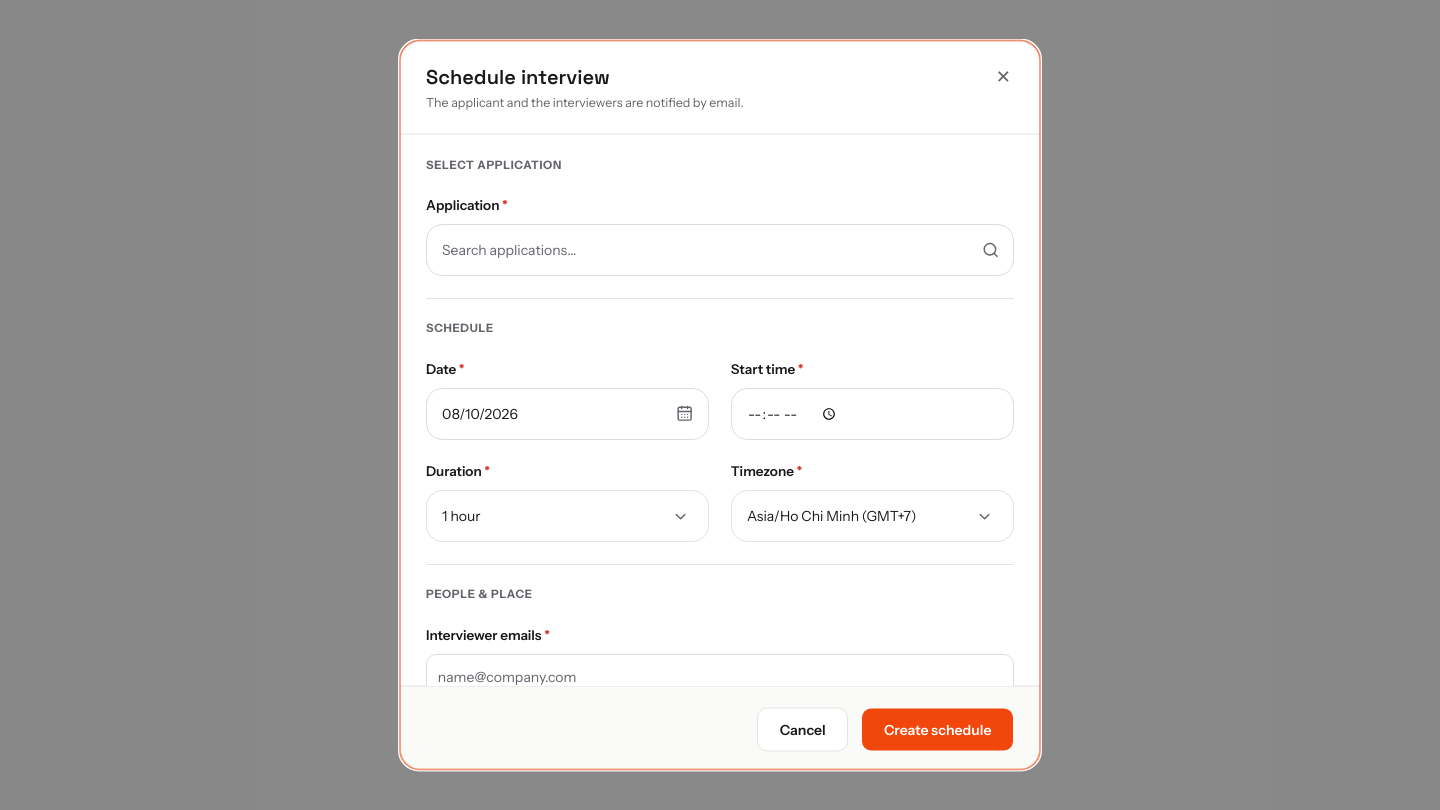
Test: Schedule interview dialog › refuses a time that has already passed today, in Vietnam time
Click the dropdown labelled "Application *" at coordinates (720, 250), box [426,224,1014,276]
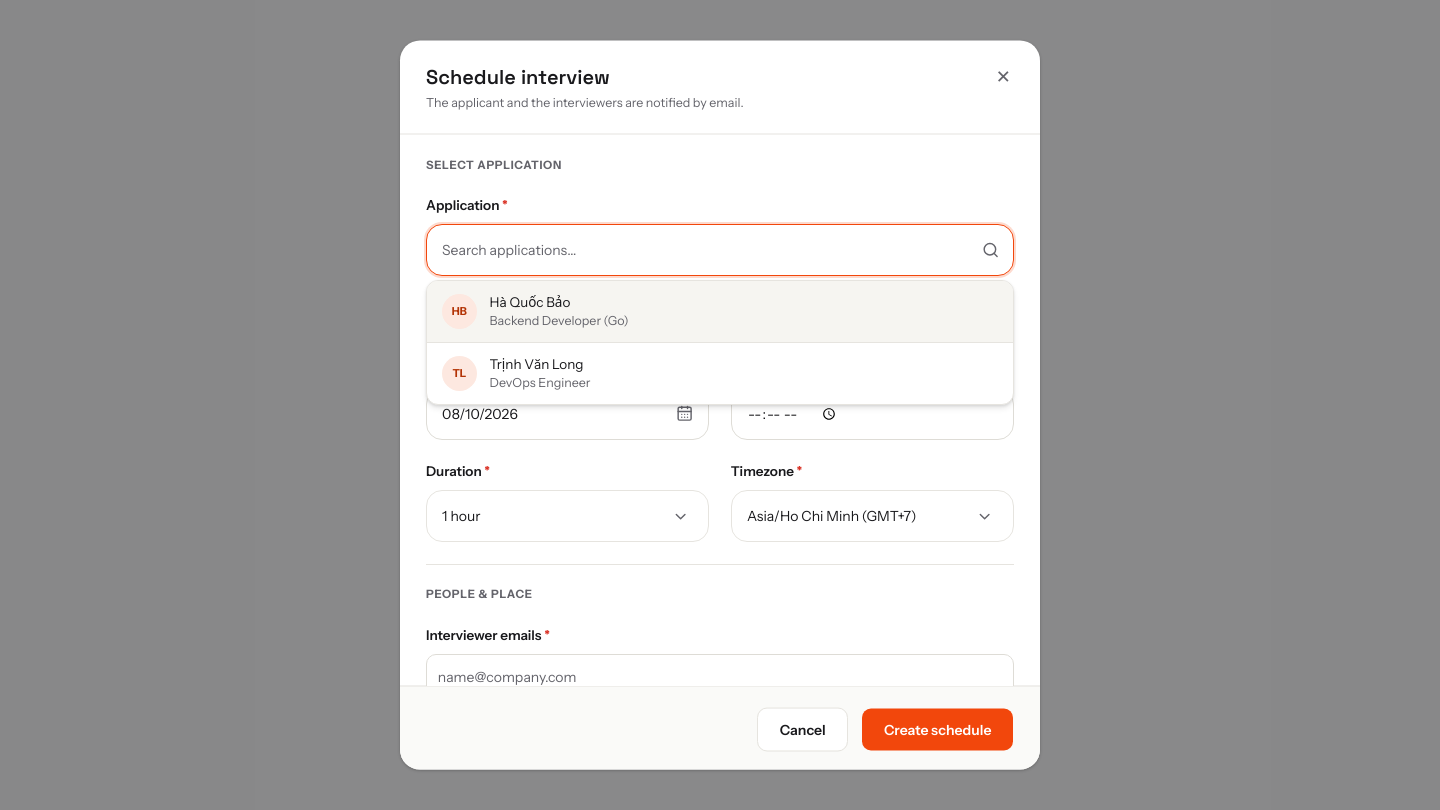
Click the option "HB Hà Quốc Bảo Backend Developer (Go)" at coordinates (459, 311), box [427,281,1013,342]
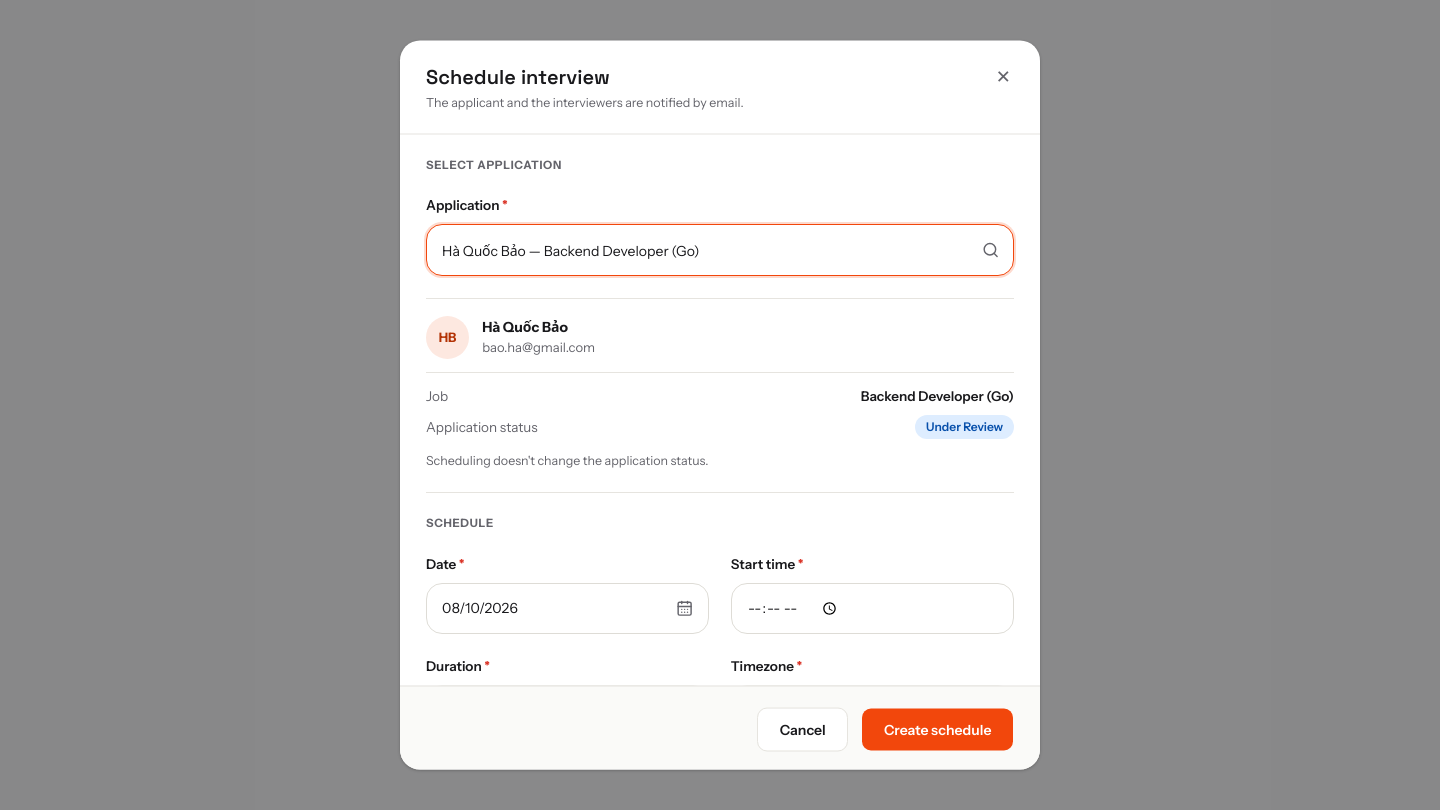
Type "09:00" into the time field labelled "Start time *" at coordinates (872, 608), box [731,582,1014,634]
(page scrolled)
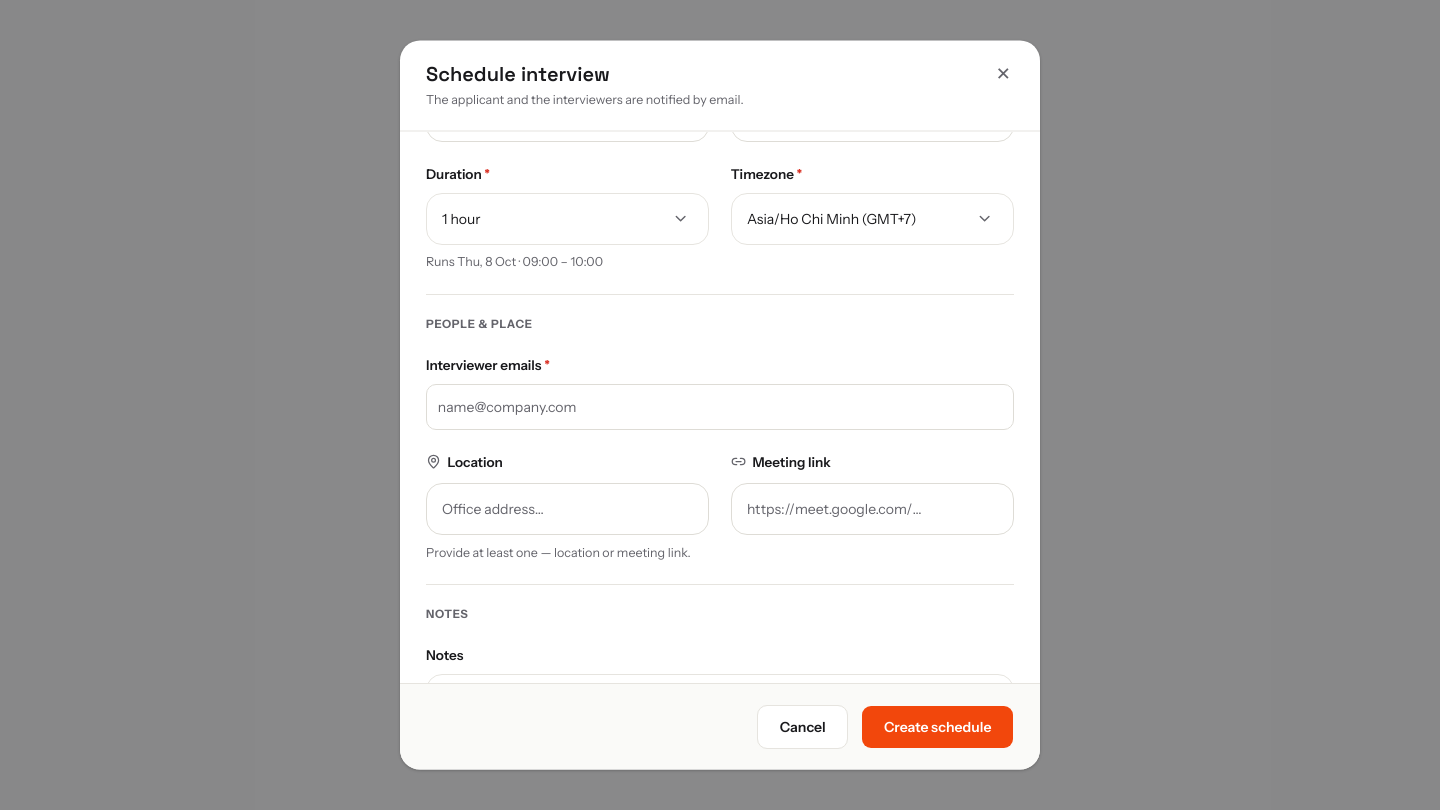
Type "nam.bui@novafintech.vn" into the field labelled "Interviewer emails *" at coordinates (720, 406), box [438,392,1002,421]
Then press Enter
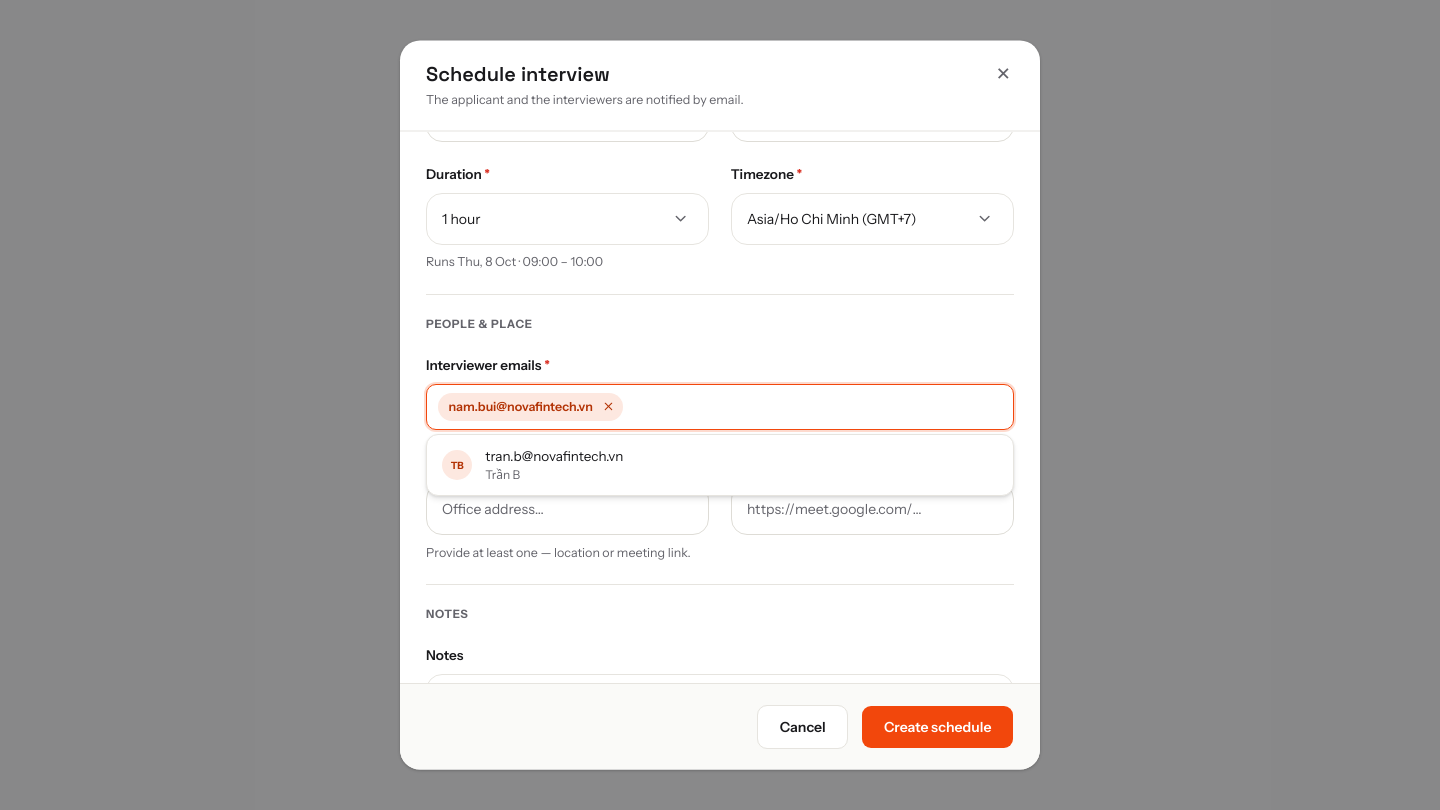
Now the text "nam.bui@novafintech.vn" is shown, box [449,397,593,416]
Type "https://meet.google.com/kqr-pmzt-bvx" into the field labelled "Meeting link" at coordinates (872, 508), box [731,483,1014,534]
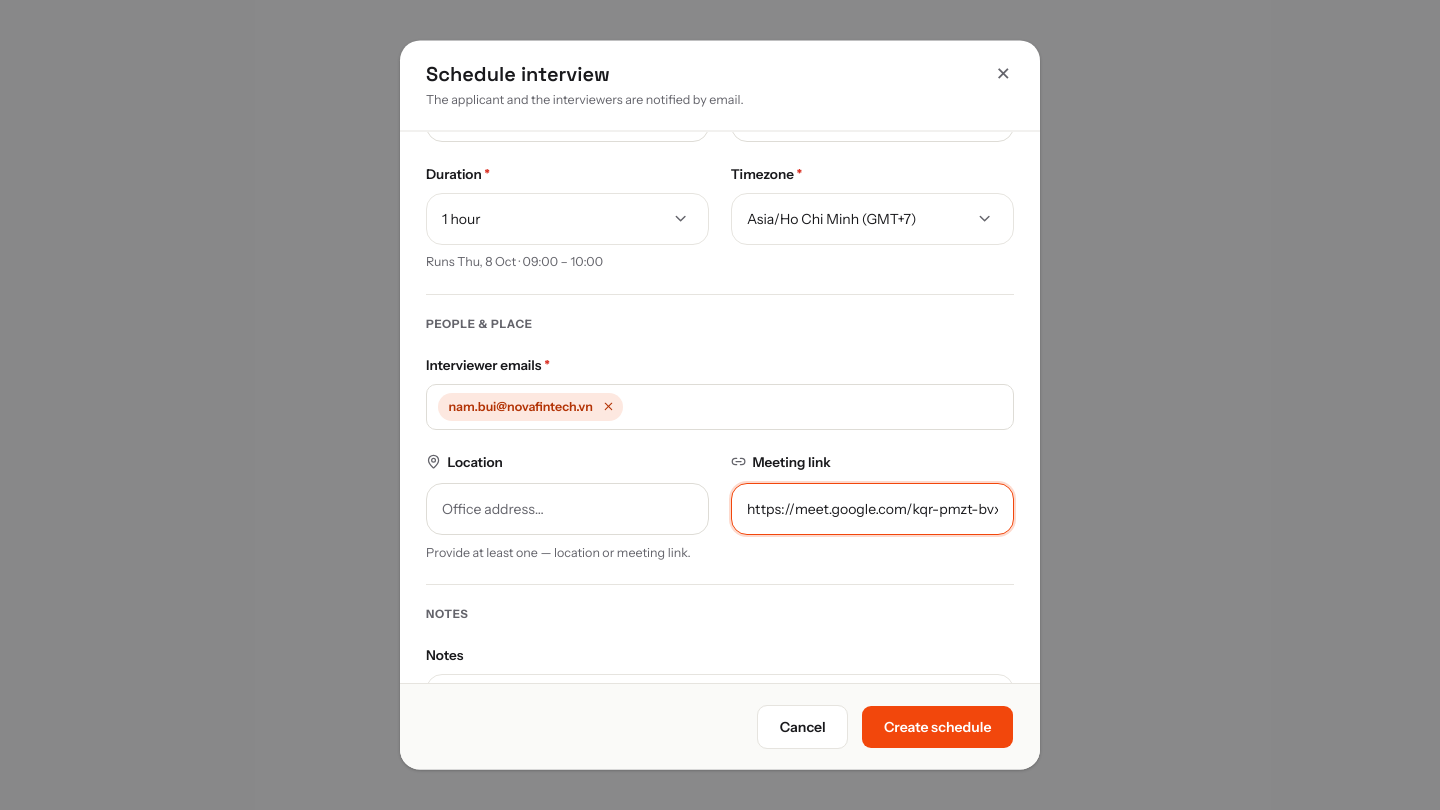
Click the button "Create schedule" at coordinates (938, 726), box [861,705,1014,748]
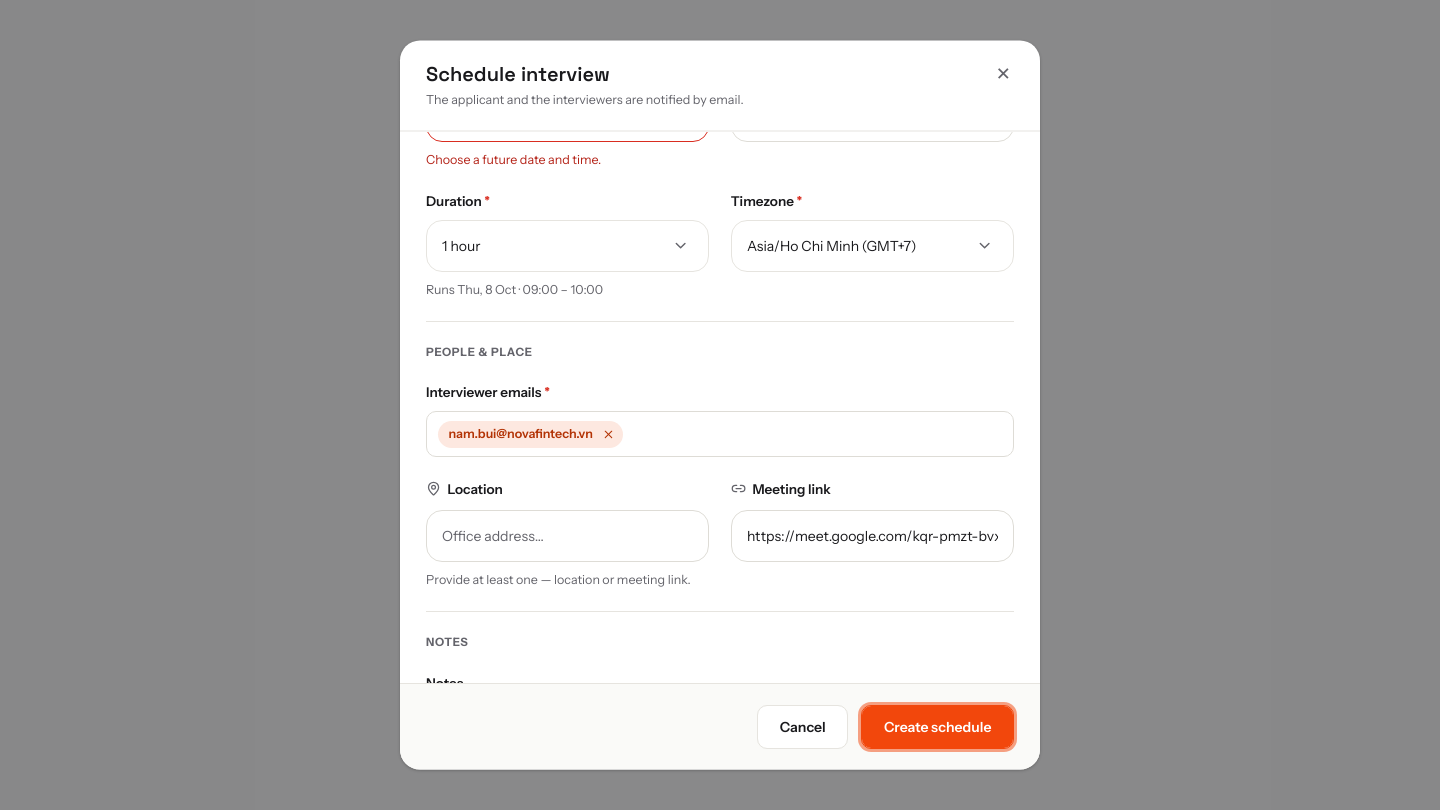
Now the text "Choose a future date and time." is shown, box [426,152,601,166]
